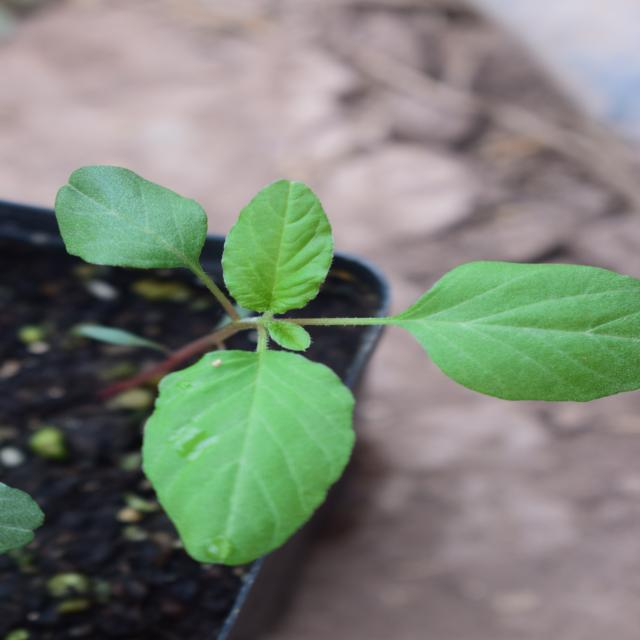pigweed: (55, 136, 524, 626)
